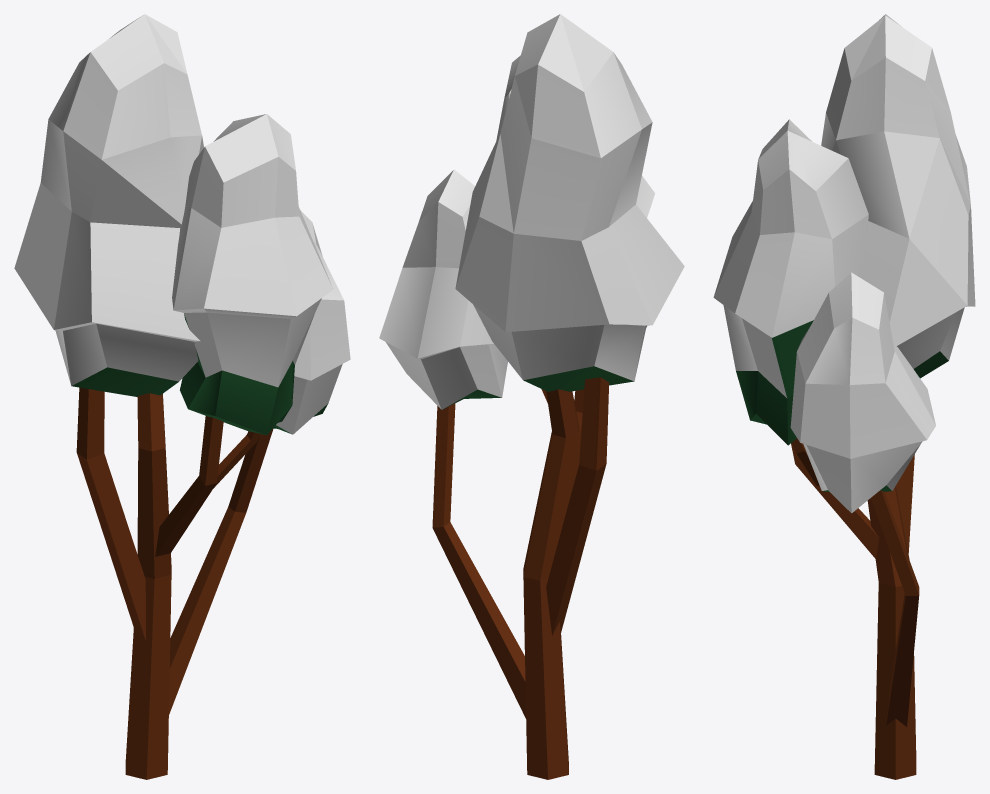
The model's file is Winter_008.fbx.
3 views of the same model, side by side, from view 1: azimuth 30°, elevation 25°; view 2: azimuth 150°, elevation 25°; view 3: azimuth 270°, elevation 25° (orthographic).
Visible parts, largest first — view 1: Winter_008; view 2: Winter_008; view 3: Winter_008.
Part boxes in pixels (x1,y1,x2,y2): Winter_008: (14,14,350,779); Winter_008: (379,14,684,779); Winter_008: (713,14,975,779).
Bounding box in the file's own units: 1.87 × 5.16 × 1.63.
